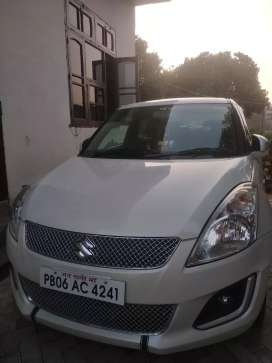license_plate: (39, 269, 126, 306)
